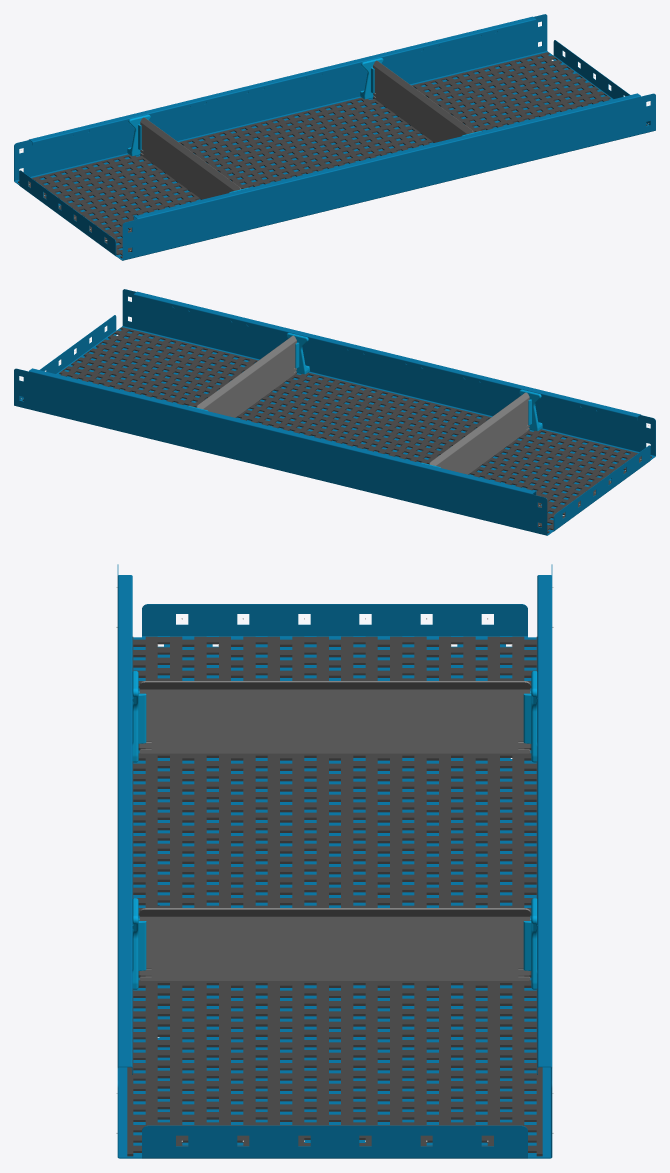
Rendered from XDS40236KM02.glb.
3 views of the same model, one above another, from view 1: azimuth 30°, elevation 25°; view 2: azimuth 150°, elevation 25°; view 3: azimuth 270°, elevation 25° (orthographic). The views are drawn at different scales.
Parts seen in each view (by area): view 1: XDS40236-1, TA20-35-1, ZDS00236-1, ZDS00236-2, ZDH00200-1, ZDH00200-4; view 2: XDS40236-1, TA20-35-1, ZDS00236-1, ZDS00236-2, ZDH00200-2, ZDH00200-3; view 3: TA20-35-1, XDS40236-1, ZDS00236-1, ZDS00236-2, ZDH00200-1, ZDH00200-2, ZDH00200-3, ZDH00200-4.
Part boxes in pixels (left/top/right/bottom): XDS40236-1: left=14, top=14, right=655, bottom=260; TA20-35-1: left=18, top=52, right=647, bottom=258; ZDS00236-1: left=140, top=117, right=240, bottom=199; ZDS00236-2: left=373, top=60, right=473, bottom=142; ZDH00200-1: left=127, top=114, right=150, bottom=156; ZDH00200-4: left=360, top=58, right=383, bottom=99; XDS40236-1: left=14, top=289, right=655, bottom=535; TA20-35-1: left=22, top=327, right=651, bottom=533; ZDS00236-1: left=429, top=392, right=529, bottom=474; ZDS00236-2: left=196, top=335, right=296, bottom=417; ZDH00200-2: left=519, top=389, right=542, bottom=431; ZDH00200-3: left=286, top=333, right=309, bottom=374; TA20-35-1: left=127, top=636, right=542, bottom=1156; XDS40236-1: left=117, top=564, right=552, bottom=1158; ZDS00236-1: left=139, top=681, right=530, bottom=753; ZDS00236-2: left=139, top=908, right=530, bottom=980; ZDH00200-1: left=523, top=671, right=537, bottom=762; ZDH00200-2: left=132, top=671, right=146, bottom=762; ZDH00200-3: left=132, top=898, right=146, bottom=989; ZDH00200-4: left=523, top=898, right=537, bottom=989.
Size of the model in its own units: 1.01 by 0.0712 by 0.358.
